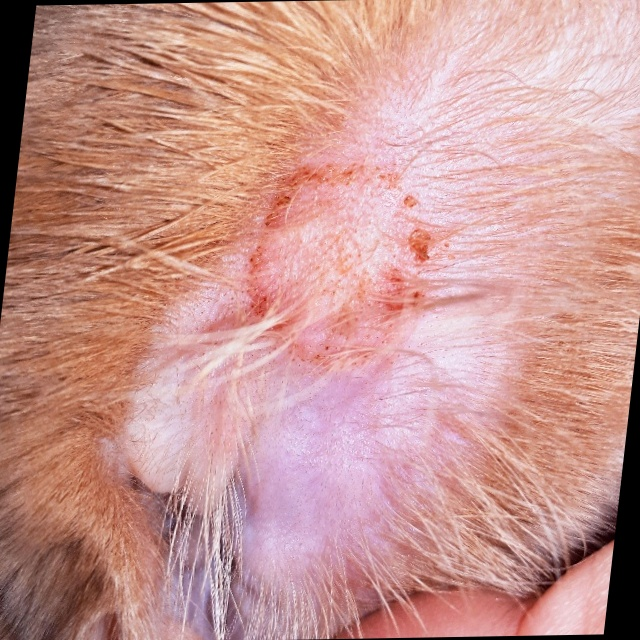ringworm: (235, 158, 435, 381)
